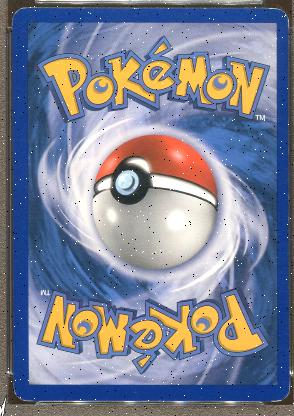Card: (8, 2, 292, 406)
Corner Wear: (265, 5, 291, 32), (266, 379, 290, 403), (12, 380, 38, 402), (11, 5, 32, 24)
Edge Wear: (57, 7, 154, 9), (194, 7, 217, 9)
